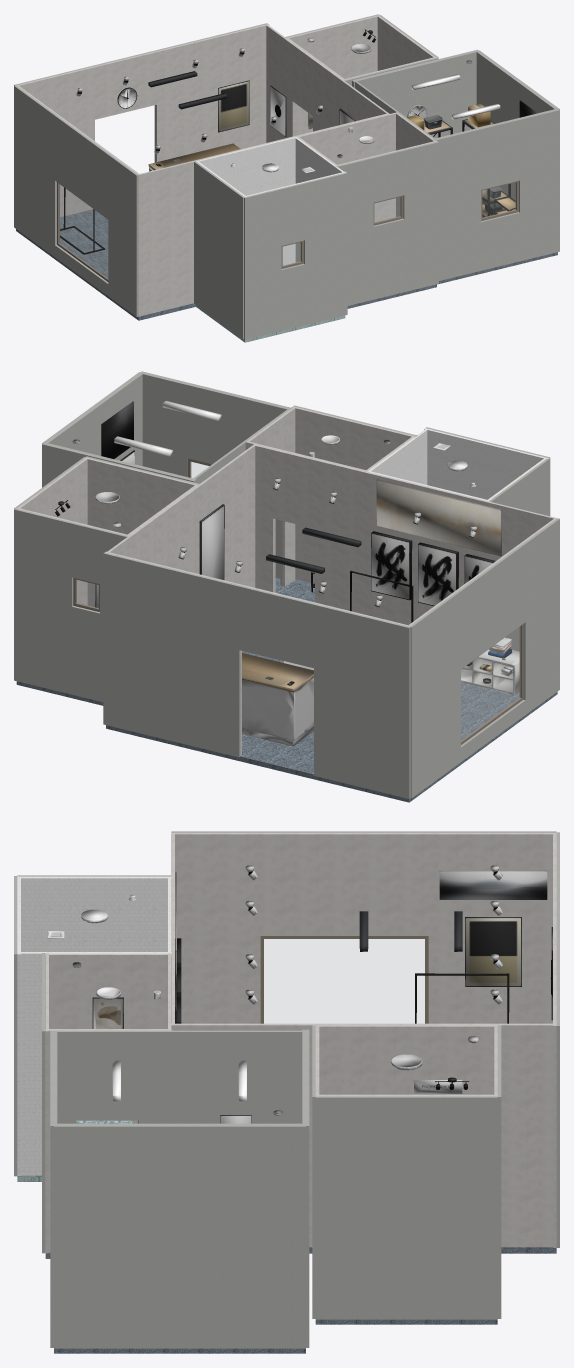
Rendered from scene_named.glb.
3 views of the same model, one above another, from view 1: azimuth 30°, elevation 25°; view 2: azimuth 150°, elevation 25°; view 3: azimuth 270°, elevation 25° (orthographic). The views are drawn at different scales.
Visible parts, largest first — view 1: north_wall_showroom/north_wall_showroom/geometry_0, south_wall_exterior_storage_room/south_wall_exterior_storage, west_wall_exterior_showroom/west_wall_exterior_showroom/geom, south_wall_exterior_bathroom/south_wall_exterior_bathroom/ge, south_wall_exterior_back_lobby/south_wall_exterior_back_lobb, south_wall_showroom/south_wall_showroom/geometry_0, west_wall_exterior_bathroom/west_wall_exterior_bathroom/geom, east_wall_showroom/east_wall_showroom/geometry_0, north_wall_storage_room/north_wall_storage_room/geometry_0, north_wall_bathroom/north_wall_bathroom/geometry_0, north_wall_fitting_room/north_wall_fitting_room/geometry_0, north_wall_back_lobby/north_wall_back_lobby/geometry_0 (+18 smaller); view 2: north_wall_exterior_showroom/north_wall_exterior_showroom/ge, west_wall_exterior_showroom/west_wall_exterior_showroom/geom, south_wall_showroom/south_wall_showroom/geometry_0, north_wall_exterior_fitting_room/north_wall_exterior_fitting, east_wall_showroom/east_wall_showroom/geometry_0, south_wall_storage_room/south_wall_storage_room/geometry_0, canvas_0, checkout_counter_0, floor_showroom, south_wall_back_lobby/south_wall_back_lobby/geometry_0, south_wall_fitting_room/south_wall_fitting_room/geometry_0, south_wall_bathroom/south_wall_bathroom/geometry_0 (+17 smaller); view 3: east_wall_exterior_storage_room/east_wall_exterior_storage_r, west_wall_showroom/west_wall_showroom/geometry_0, east_wall_exterior_fitting_room/east_wall_exterior_fitting_r, west_wall_storage_room/west_wall_storage_room/geometry_0, east_wall_showroom/east_wall_showroom/geometry_0, window_6_showroom/window_6_showroom/glass, west_wall_fitting_room/west_wall_fitting_room/geometry_0, west_wall_bathroom/west_wall_bathroom/geometry_0, west_wall_back_lobby/west_wall_back_lobby/geometry_0, east_wall_bathroom/east_wall_bathroom/geometry_0, print_5, photograph_print_0 (+18 smaller).
Boxes of the visible parts, box(x1,y1,x2,y2) form: north_wall_showroom/north_wall_showroom/geometry_0: box(18, 24, 269, 217); south_wall_exterior_storage_room/south_wall_exterior_storage: box(434, 109, 559, 280); west_wall_exterior_showroom/west_wall_exterior_showroom/geom: box(14, 85, 138, 316); south_wall_exterior_bathroom/south_wall_exterior_bathroom/ge: box(244, 172, 347, 339); south_wall_exterior_back_lobby/south_wall_exterior_back_lobb: box(336, 141, 438, 305); south_wall_showroom/south_wall_showroom/geometry_0: box(138, 113, 388, 315); west_wall_exterior_bathroom/west_wall_exterior_bathroom/geom: box(194, 161, 243, 338); east_wall_showroom/east_wall_showroom/geometry_0: box(265, 24, 389, 142); north_wall_storage_room/north_wall_storage_room/geometry_0: box(353, 51, 476, 138); north_wall_bathroom/north_wall_bathroom/geometry_0: box(196, 137, 296, 265); north_wall_fitting_room/north_wall_fitting_room/geometry_0: box(287, 15, 380, 135); north_wall_back_lobby/north_wall_back_lobby/geometry_0: box(296, 113, 395, 222); north_wall_exterior_showroom/north_wall_exterior_showroom/ge: box(103, 552, 410, 798); west_wall_exterior_showroom/west_wall_exterior_showroom/geom: box(409, 518, 559, 798); south_wall_showroom/south_wall_showroom/geometry_0: box(253, 444, 556, 651); north_wall_exterior_fitting_room/north_wall_exterior_fitting: box(14, 508, 128, 701); east_wall_showroom/east_wall_showroom/geometry_0: box(106, 445, 255, 587); south_wall_storage_room/south_wall_storage_room/geometry_0: box(142, 373, 291, 578); canvas_0: box(376, 479, 501, 556); checkout_counter_0: box(242, 653, 313, 746); floor_showroom: box(106, 651, 557, 802); south_wall_back_lobby/south_wall_back_lobby/geometry_0: box(291, 406, 416, 583); south_wall_fitting_room/south_wall_fitting_room/geometry_0: box(84, 457, 197, 607); south_wall_bathroom/south_wall_bathroom/geometry_0: box(424, 428, 548, 499); east_wall_exterior_storage_room/east_wall_exterior_storage_r: box(54, 1125, 305, 1348); west_wall_showroom/west_wall_showroom/geometry_0: box(171, 833, 556, 1023); east_wall_exterior_fitting_room/east_wall_exterior_fitting_r: box(315, 1096, 497, 1319); west_wall_storage_room/west_wall_storage_room/geometry_0: box(54, 1030, 305, 1123); east_wall_showroom/east_wall_showroom/geometry_0: box(171, 1023, 556, 1247); window_6_showroom/window_6_showroom/glass: box(264, 939, 424, 1023); west_wall_fitting_room/west_wall_fitting_room/geometry_0: box(319, 1025, 494, 1094); west_wall_bathroom/west_wall_bathroom/geometry_0: box(17, 876, 171, 951); west_wall_back_lobby/west_wall_back_lobby/geometry_0: box(45, 953, 171, 1123); east_wall_bathroom/east_wall_bathroom/geometry_0: box(17, 952, 171, 1175); print_5: box(465, 917, 521, 986); photograph_print_0: box(439, 870, 547, 899).
Size of the model in its own units: 9.98 by 3.6 by 7.8.
Materials: 104 (100 with a texture image).
